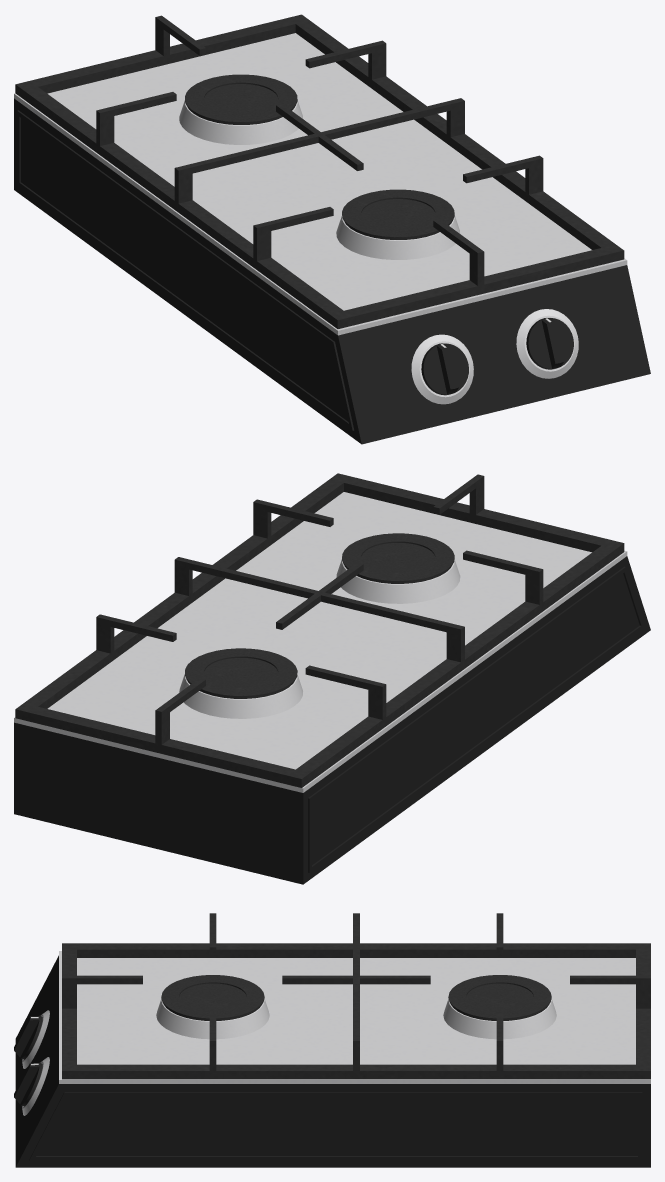
The model's file is GasStove02.fbx.
3 views of the same model, one above another, from view 1: azimuth 30°, elevation 25°; view 2: azimuth 150°, elevation 25°; view 3: azimuth 270°, elevation 25° (orthographic). The views are drawn at different scales.
Visible parts, largest first — view 1: GasStove02, GasStove02_Knob01, GasStove02_Knob02; view 2: GasStove02; view 3: GasStove02, GasStove02_Knob01, GasStove02_Knob02.
Boxes of the visible parts, box(x1,y1,x2,y2) form: GasStove02: box(14, 14, 650, 444); GasStove02_Knob01: box(421, 343, 468, 394); GasStove02_Knob02: box(526, 318, 573, 369); GasStove02: box(14, 473, 650, 884); GasStove02: box(15, 913, 650, 1167); GasStove02_Knob01: box(14, 1015, 42, 1059); GasStove02_Knob02: box(14, 1062, 42, 1106).
Size of the model in its own units: 28.7 by 12.97 by 59.26.
